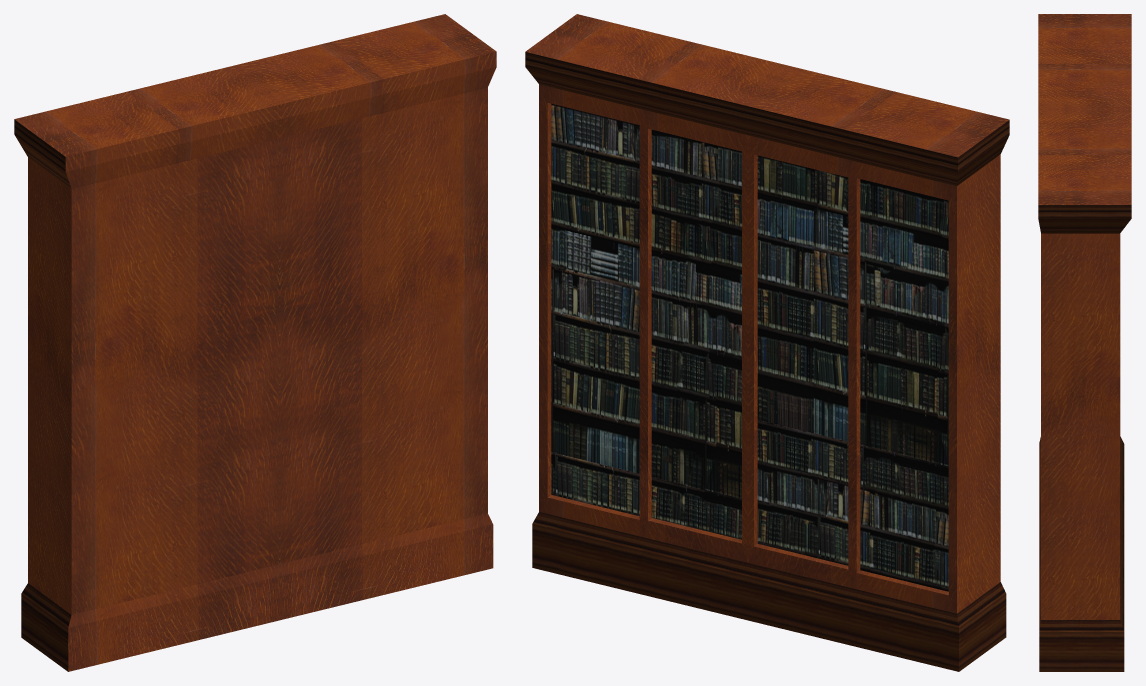
Rendered from Bookcase_Long2.fbx.
3 renders of one model, left to right at view 1: azimuth 30°, elevation 25°; view 2: azimuth 150°, elevation 25°; view 3: azimuth 270°, elevation 25°, orthographic. The views are drawn at different scales.
Parts seen in each view (by area): view 1: Bookcaselong1.002; view 2: Bookcaselong1.002; view 3: Bookcaselong1.002.
Part boxes in pixels (<box>): Bookcaselong1.002: <box>14,14,496,671</box>; Bookcaselong1.002: <box>525,14,1009,671</box>; Bookcaselong1.002: <box>1038,14,1131,671</box>.
Size of the model in its own units: 405 by 463 by 83.72.
